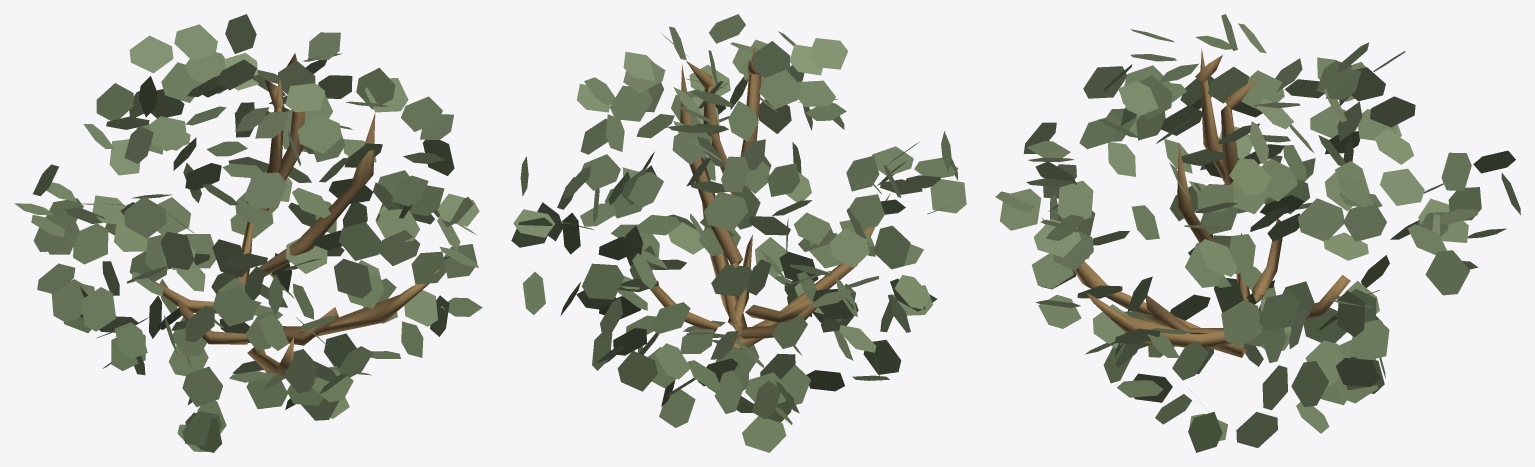
The model's file is sage_shrub_lod1.glb.
The picture shows the model from 3 angles, left to right: view 1: azimuth 30°, elevation 25°; view 2: azimuth 150°, elevation 25°; view 3: azimuth 270°, elevation 25°; orthographic projection. The views are drawn at different scales.
Visible parts, largest first — view 1: Leaves.013, Trunk.013; view 2: Leaves.013, Trunk.013; view 3: Leaves.013, Trunk.013.
Part boxes in pixels (bbox=[...]): Leaves.013: bbox=[14, 14, 482, 452]; Trunk.013: bbox=[154, 53, 439, 376]; Leaves.013: bbox=[511, 14, 966, 452]; Trunk.013: bbox=[649, 45, 890, 349]; Leaves.013: bbox=[995, 14, 1520, 452]; Trunk.013: bbox=[1041, 48, 1350, 357].
Bounding box in the file's own units: 1.17 × 1 × 1.23.
